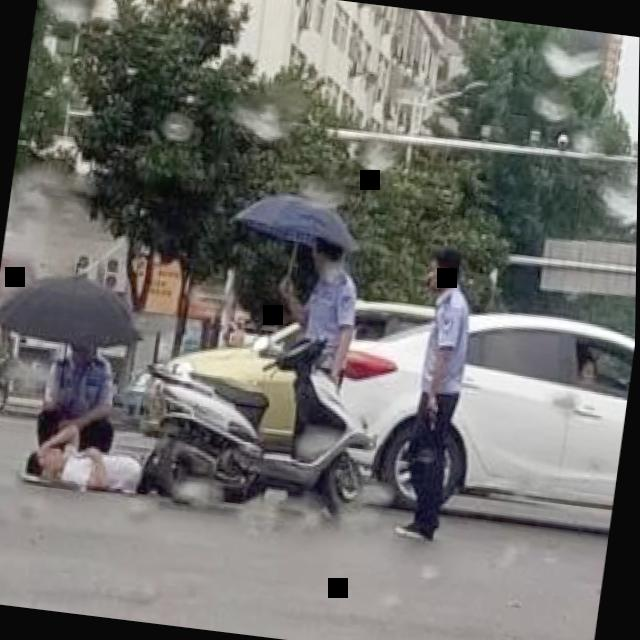Fall-Detected: (9, 415, 173, 501)
